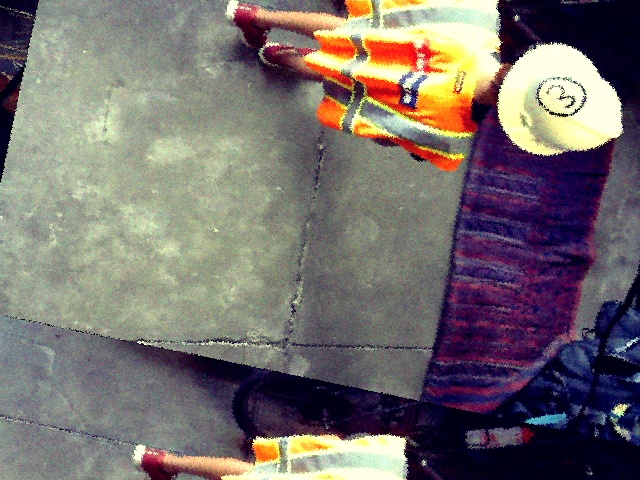three: (532, 74, 587, 119)
